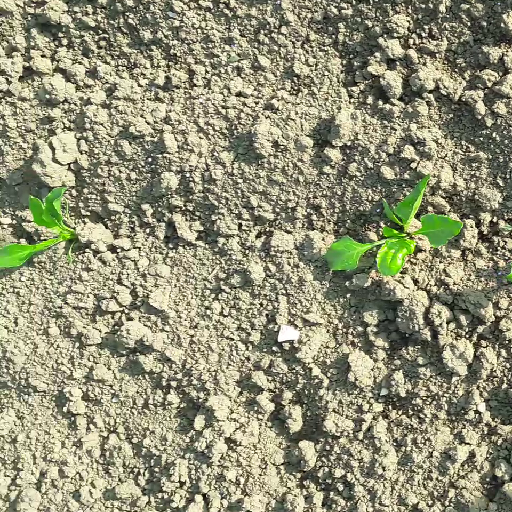sugarbeet: (321, 173, 467, 282), (1, 184, 82, 271)
